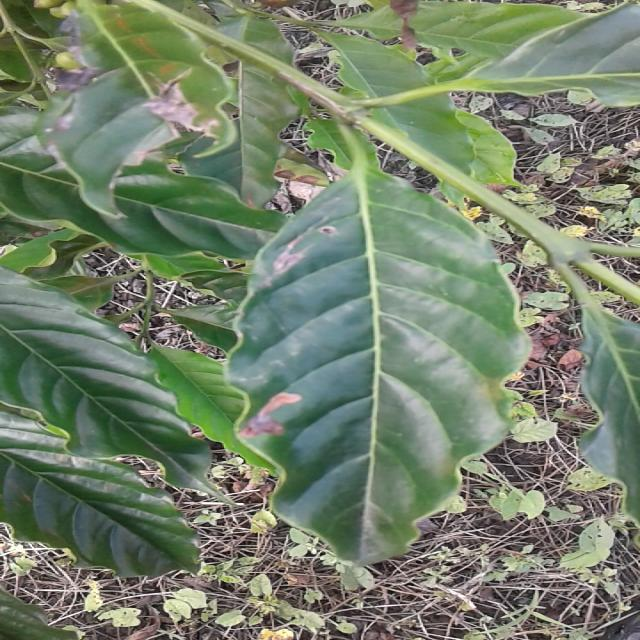Plaga-AranaRoja: (224, 138, 539, 571)
